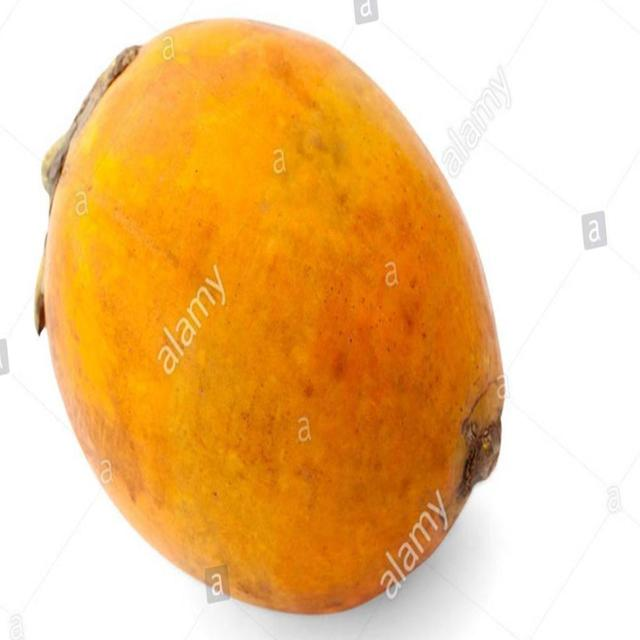good: (35, 17, 507, 618)
